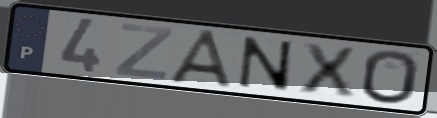4: (57, 15, 103, 76)
A: (165, 28, 239, 92)
N: (237, 34, 295, 94)
O: (360, 48, 422, 107)
X: (297, 41, 358, 99)
Z: (113, 22, 176, 82)
